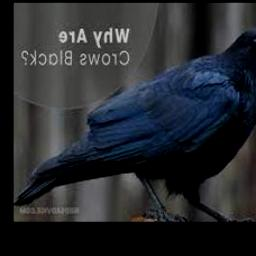Crow: (15, 28, 256, 220)
